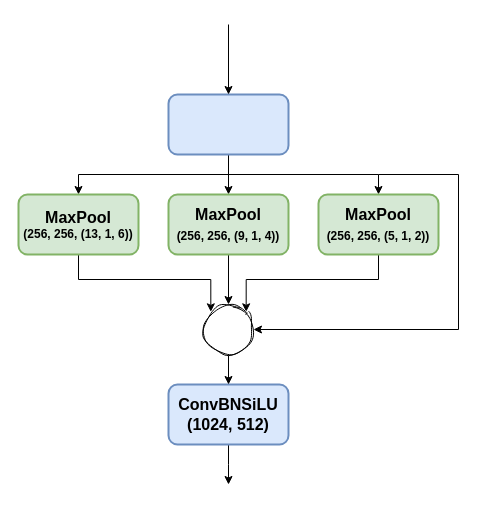
Image size: 484x510. Some labels were removed from this diagram. The shapes that lost their labels are listed below. From the top down, each one's centre as x and y in pixels, then its label:
the point at 228,124: ConvBNSiLU (512, 256)
the point at 228,329: concat
